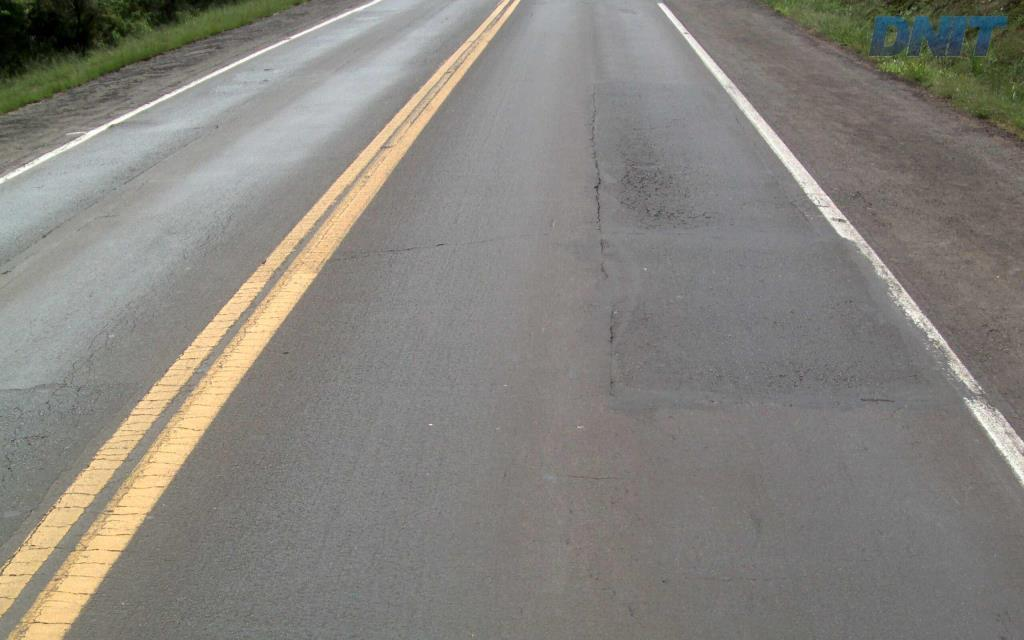crack: (620, 158, 658, 197)
